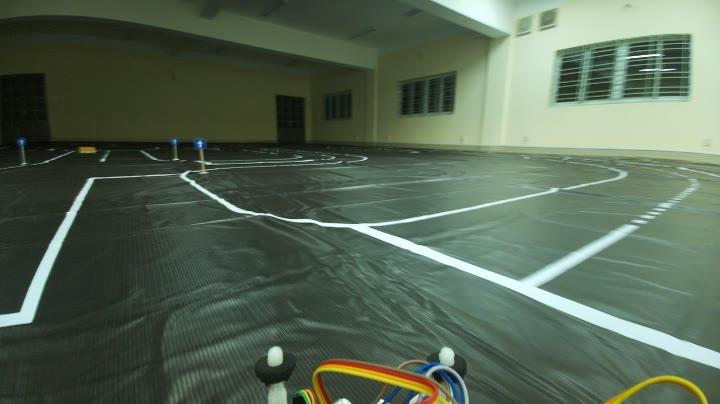onewayroad: (195, 134, 209, 150), (172, 136, 182, 145), (18, 136, 28, 145)
roadblock: (74, 146, 102, 154)
